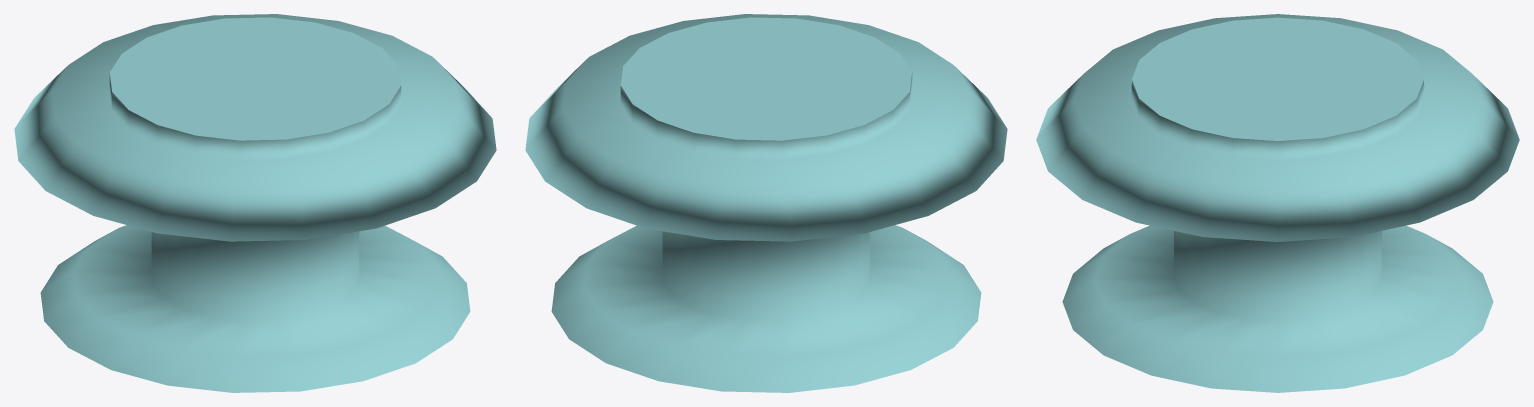
The model's file is bumper.fbx.
3 renders of one model, left to right at view 1: azimuth 30°, elevation 25°; view 2: azimuth 150°, elevation 25°; view 3: azimuth 270°, elevation 25°, orthographic.
Parts seen in each view (by area): view 1: pCylinder1; view 2: pCylinder1; view 3: pCylinder1.
Part boxes in pixels (x1,y1,x2,y2): pCylinder1: (14,14,496,392); pCylinder1: (525,14,1007,392); pCylinder1: (1036,14,1519,392).
Bounding box in the file's own units: 13.71 × 6.96 × 13.71.
